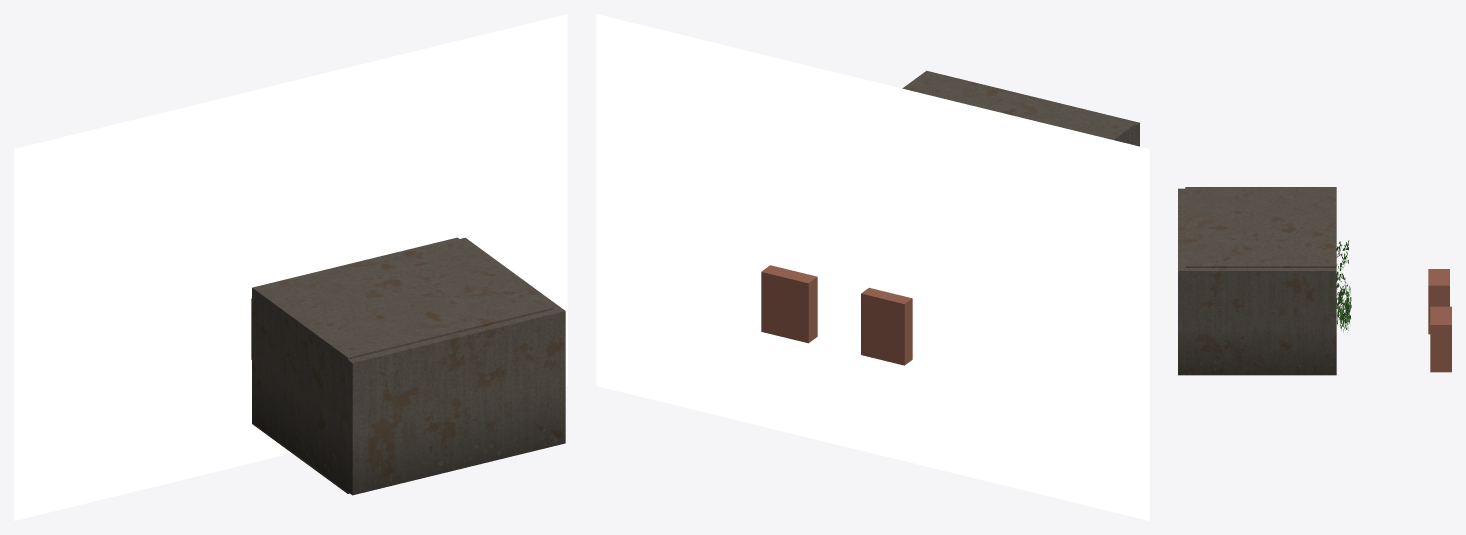
The model's file is abandoned_window.glb.
The picture shows the model from 3 angles, left to right: view 1: azimuth 30°, elevation 25°; view 2: azimuth 150°, elevation 25°; view 3: azimuth 270°, elevation 25°; orthographic projection. The views are drawn at different scales.
Visible parts, largest first — view 1: SkyPlane, Wall_Back, Ceiling, Wall_LeftReturn; view 2: SkyPlane, Ceiling, Building_2, Building_1, Wall_Back; view 3: Wall_RightReturn, Ceiling, Wall_Back, Building_2, Building_1.
Part boxes in pixels (<box>): SkyPlane: <box>14,14,567,520</box>; Wall_Back: <box>348,308,565,495</box>; Ceiling: <box>252,237,553,359</box>; Wall_LeftReturn: <box>252,290,347,491</box>; SkyPlane: <box>596,14,1149,520</box>; Ceiling: <box>908,74,1135,140</box>; Building_2: <box>761,265,817,343</box>; Building_1: <box>861,287,912,365</box>; Wall_Back: <box>922,70,1139,146</box>; Wall_RightReturn: <box>1185,268,1336,375</box>; Ceiling: <box>1185,187,1336,267</box>; Wall_Back: <box>1178,188,1185,375</box>; Building_2: <box>1430,306,1451,372</box>; Building_1: <box>1428,269,1449,334</box>.
Size of the model in its own units: 14 by 9 by 7.6.
13 materials, 9 textured.
